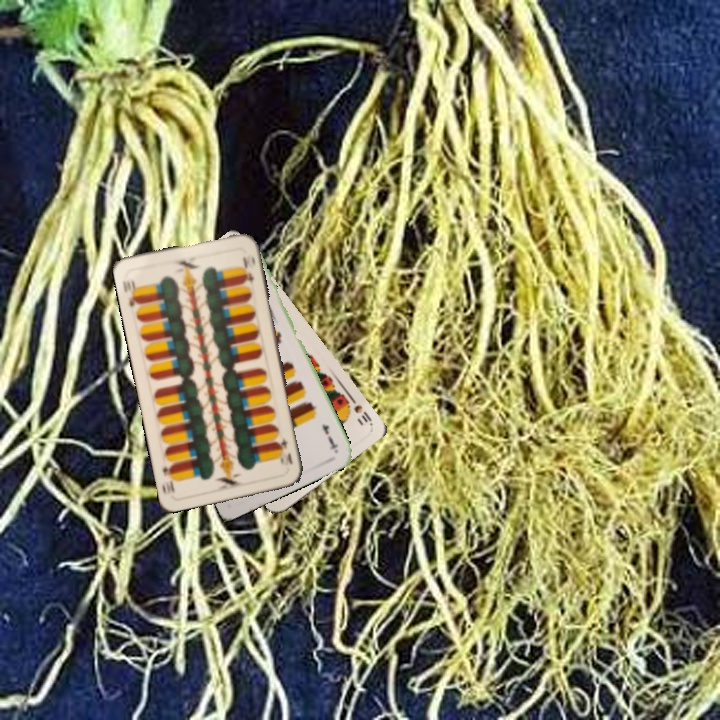E10: (118, 275, 143, 309), (273, 434, 295, 467)
E7: (318, 420, 341, 454)
S10: (346, 392, 374, 428)
